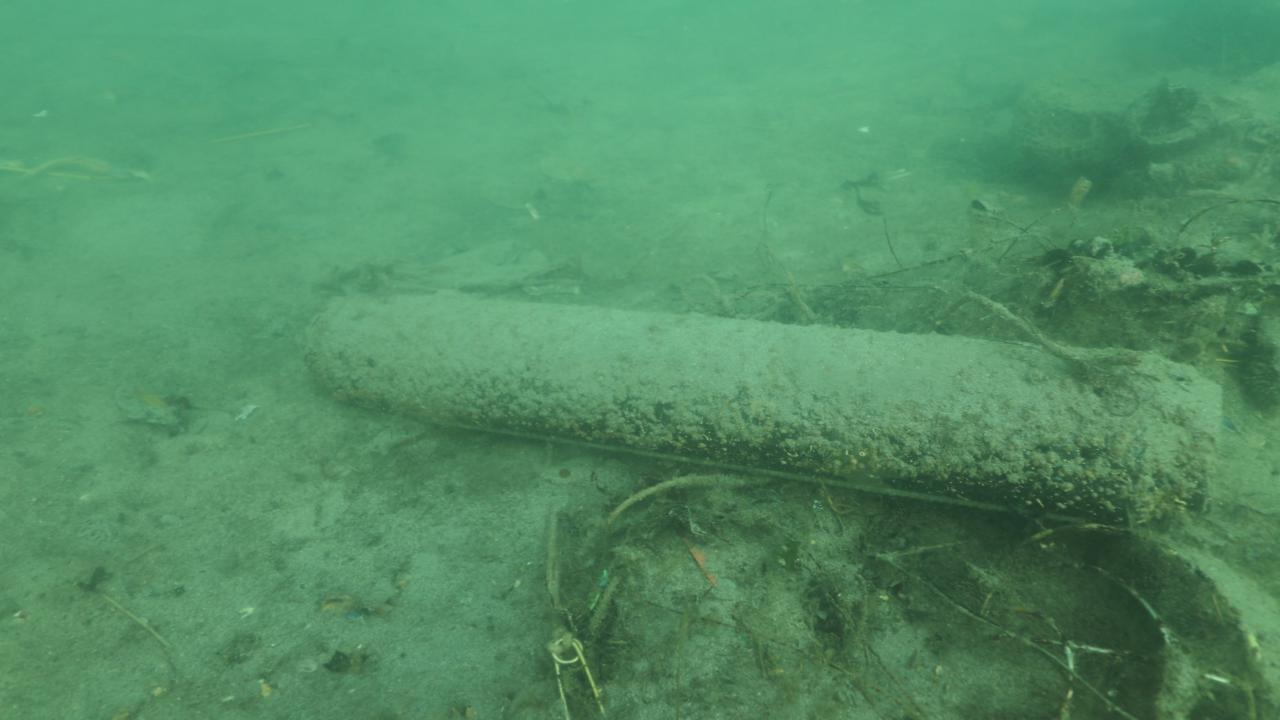eel fish trap: (297, 286, 1225, 533)
